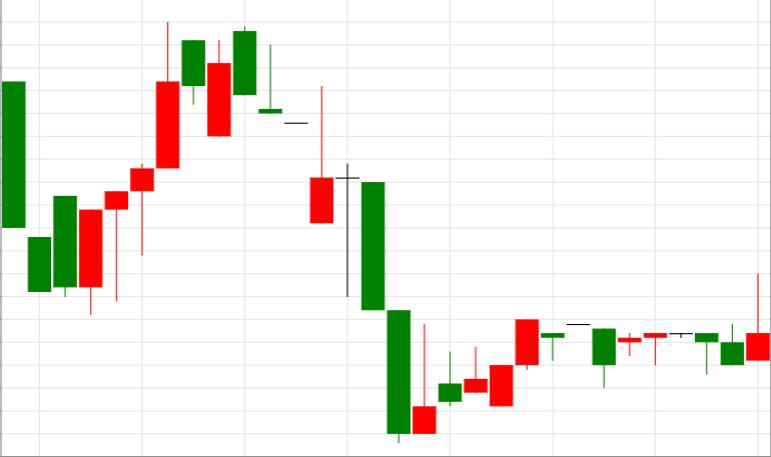inverse_hammer_rise: (233, 26, 436, 443)
